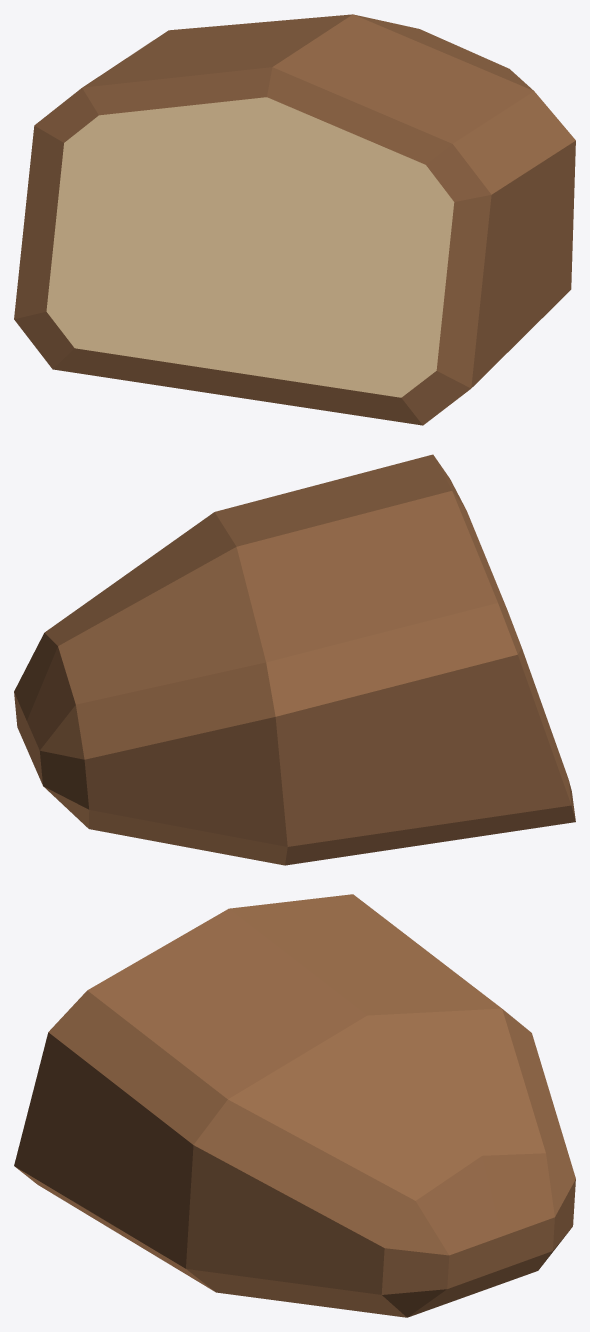
Rendered from Bread02.fbx.
The picture shows the model from 3 angles, top to bottom: view 1: azimuth 30°, elevation 25°; view 2: azimuth 150°, elevation 25°; view 3: azimuth 270°, elevation 25°; orthographic projection. The views are drawn at different scales.
Parts seen in each view (by area): view 1: BreadHalf.003; view 2: BreadHalf.003; view 3: BreadHalf.003.
Boxes of the visible parts, x1=… form: BreadHalf.003: x1=14, y1=14, x2=575, y2=425; BreadHalf.003: x1=14, y1=454, x2=575, y2=865; BreadHalf.003: x1=14, y1=894, x2=575, y2=1317.
Size of the model in its own units: 87.35 by 46.5 by 85.37.
